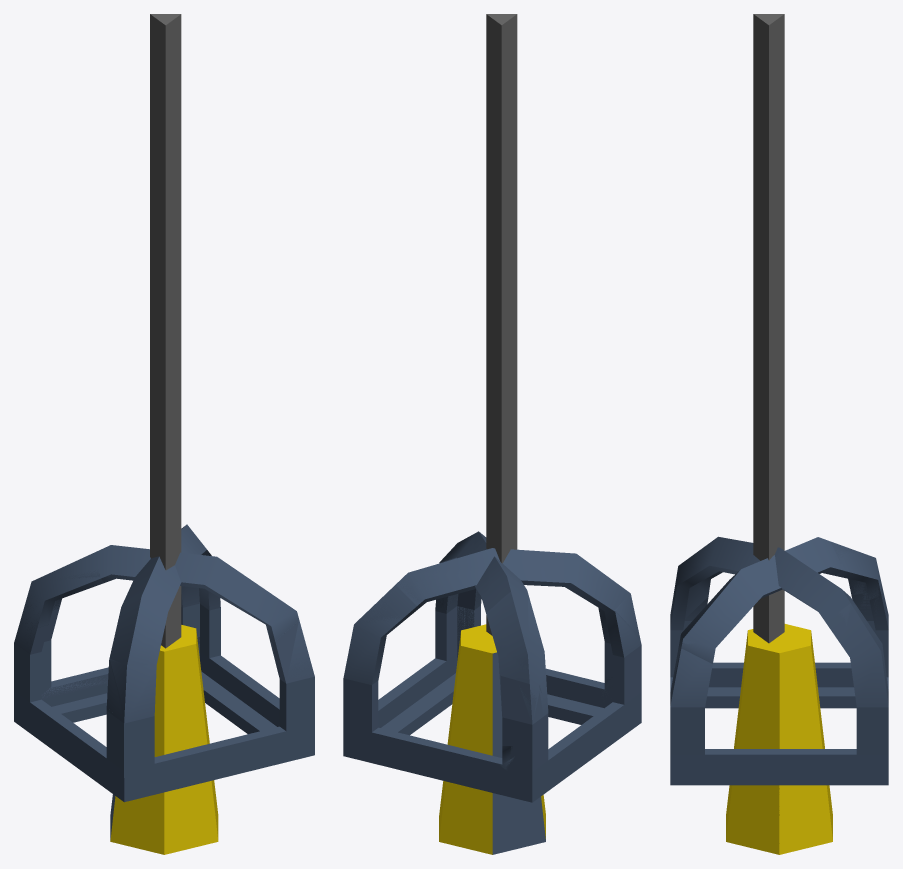
The model's file is ceiling_lamp.fbx.
3 views of the same model, side by side, from view 1: azimuth 30°, elevation 25°; view 2: azimuth 150°, elevation 25°; view 3: azimuth 270°, elevation 25° (orthographic).
Parts seen in each view (by area): view 1: PR_lamp, PR_lamp_cell.018, PR_lamp_cell.014, PR_lamp_cell.002, PR_lamp_cell.020, PR_lamp_cell.016, PR_lamp_cell.005, PR_lamp_cell.019, PR_lamp_cell.012, PR_lamp_cell.010, PR_lamp_cell.007, PR_lamp_cell.017 (+2 smaller); view 2: PR_lamp, PR_lamp_cell.018, PR_lamp_cell.016, PR_lamp_cell.014, PR_lamp_cell.012, PR_lamp_cell.020, PR_lamp_cell.015, PR_lamp_cell.004, PR_lamp_cell.019, PR_lamp_cell.002, PR_lamp_cell.017; view 3: PR_lamp, PR_lamp_cell.018, PR_lamp_cell.017, PR_lamp_cell.014, PR_lamp_cell.002, PR_lamp_cell.020, PR_lamp_cell.005, PR_lamp_cell.008, PR_lamp_cell.016, PR_lamp_cell.007, PR_lamp_cell.019, PR_lamp_cell.001 (+1 smaller).
Boxes of the visible parts, x1=… form: PR_lamp: x1=14, y1=14, x2=314, y2=847; PR_lamp_cell.018: x1=150, y1=14, x2=181, y2=648; PR_lamp_cell.014: x1=151, y1=621, x2=314, y2=795; PR_lamp_cell.002: x1=110, y1=752, x2=218, y2=854; PR_lamp_cell.020: x1=20, y1=673, x2=156, y2=802; PR_lamp_cell.016: x1=110, y1=527, x2=183, y2=741; PR_lamp_cell.005: x1=171, y1=684, x2=215, y2=816; PR_lamp_cell.019: x1=197, y1=633, x2=265, y2=727; PR_lamp_cell.012: x1=181, y1=586, x2=220, y2=638; PR_lamp_cell.010: x1=106, y1=707, x2=154, y2=756; PR_lamp_cell.007: x1=160, y1=639, x2=200, y2=707; PR_lamp_cell.017: x1=101, y1=574, x2=299, y2=641; PR_lamp: x1=343, y1=14, x2=641, y2=854; PR_lamp_cell.018: x1=486, y1=14, x2=517, y2=563; PR_lamp_cell.016: x1=398, y1=548, x2=639, y2=636; PR_lamp_cell.014: x1=407, y1=589, x2=604, y2=714; PR_lamp_cell.012: x1=343, y1=585, x2=419, y2=716; PR_lamp_cell.020: x1=536, y1=677, x2=641, y2=799; PR_lamp_cell.015: x1=486, y1=592, x2=544, y2=670; PR_lamp_cell.004: x1=500, y1=675, x2=543, y2=745; PR_lamp_cell.019: x1=343, y1=680, x2=437, y2=762; PR_lamp_cell.002: x1=495, y1=794, x2=545, y2=838; PR_lamp_cell.017: x1=439, y1=531, x2=529, y2=598; PR_lamp: x1=670, y1=14, x2=888, y2=854; PR_lamp_cell.018: x1=753, y1=14, x2=784, y2=643; PR_lamp_cell.017: x1=678, y1=537, x2=843, y2=663; PR_lamp_cell.014: x1=670, y1=648, x2=763, y2=785; PR_lamp_cell.002: x1=726, y1=726, x2=808, y2=854; PR_lamp_cell.020: x1=671, y1=662, x2=856, y2=708; PR_lamp_cell.005: x1=728, y1=687, x2=762, y2=817; PR_lamp_cell.008: x1=755, y1=695, x2=821, y2=813; PR_lamp_cell.016: x1=670, y1=552, x2=852, y2=654; PR_lamp_cell.007: x1=741, y1=624, x2=812, y2=691; PR_lamp_cell.019: x1=761, y1=749, x2=852, y2=785; PR_lamp_cell.001: x1=753, y1=647, x2=816, y2=703.
Size of the model in its own units: 234 by 954 by 234.
